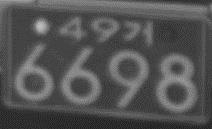4: (59, 14, 87, 42)
6: (60, 45, 102, 106), (14, 41, 54, 102)
8: (155, 53, 198, 115)
9: (107, 48, 150, 109), (90, 15, 120, 43)
거: (121, 18, 154, 45)
